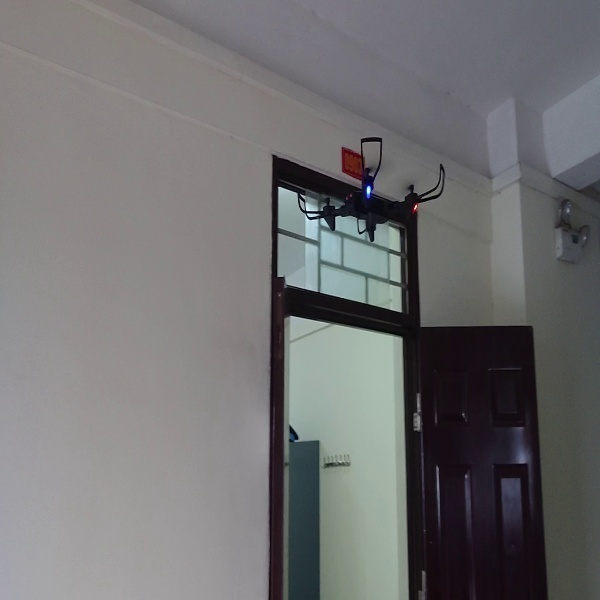drone: (295, 134, 451, 242)
